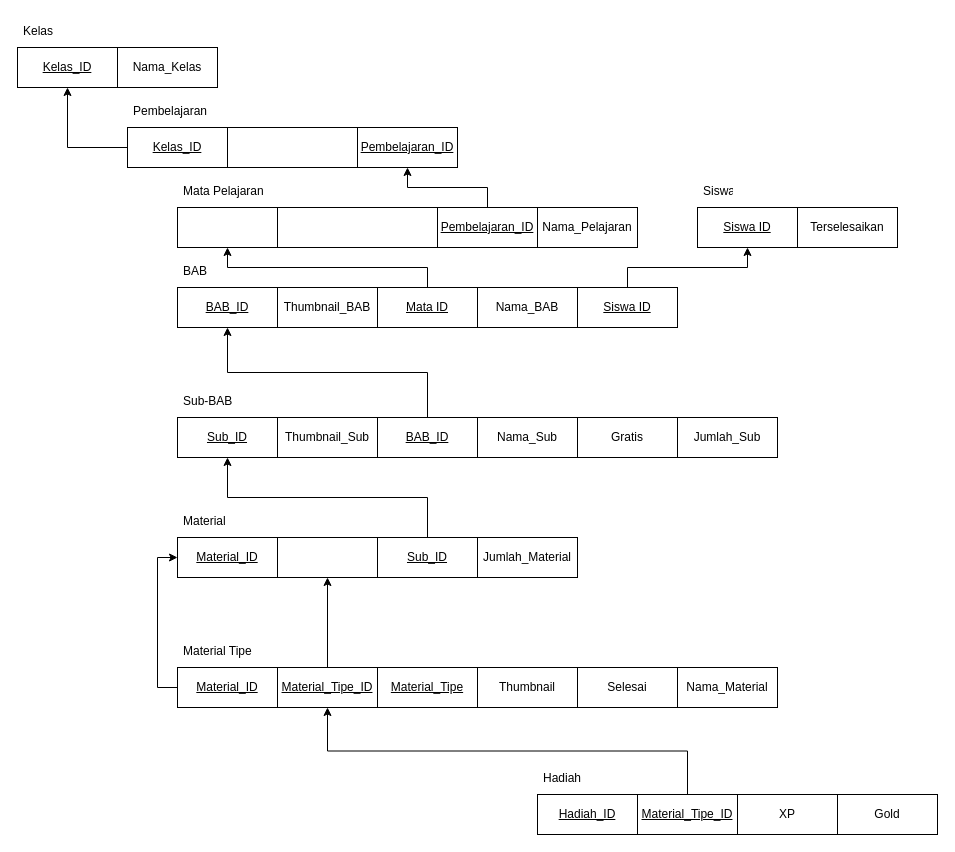
The diagram is 955 pixels wide and 852 high, and some of its shapes have lost their labels. Here are the shapes that lost their labels. From the top down, the centre of each, then its label:
At [292,147]: "Nama_Pembelajaran".
At [227,227]: "Mata_ID".
At [357,227]: "Thumbnail_Pembelajaran".
At [327,557]: "Material_Tipe _ID".
